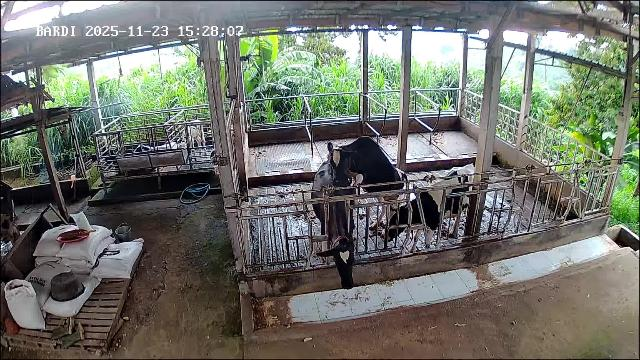mounting: (329, 138, 410, 231)
